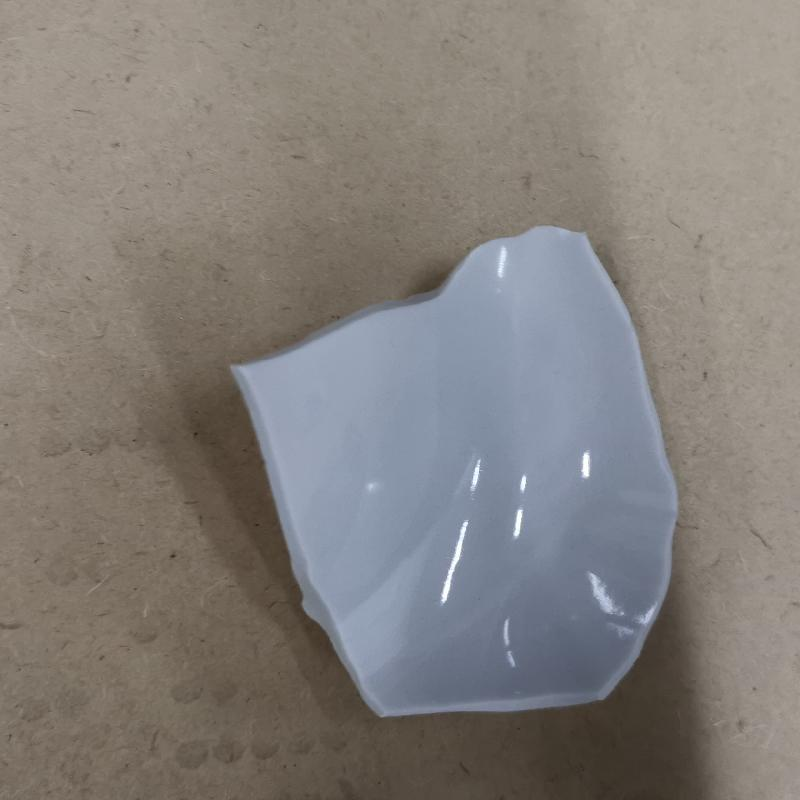ceram: (230, 222, 680, 721)
